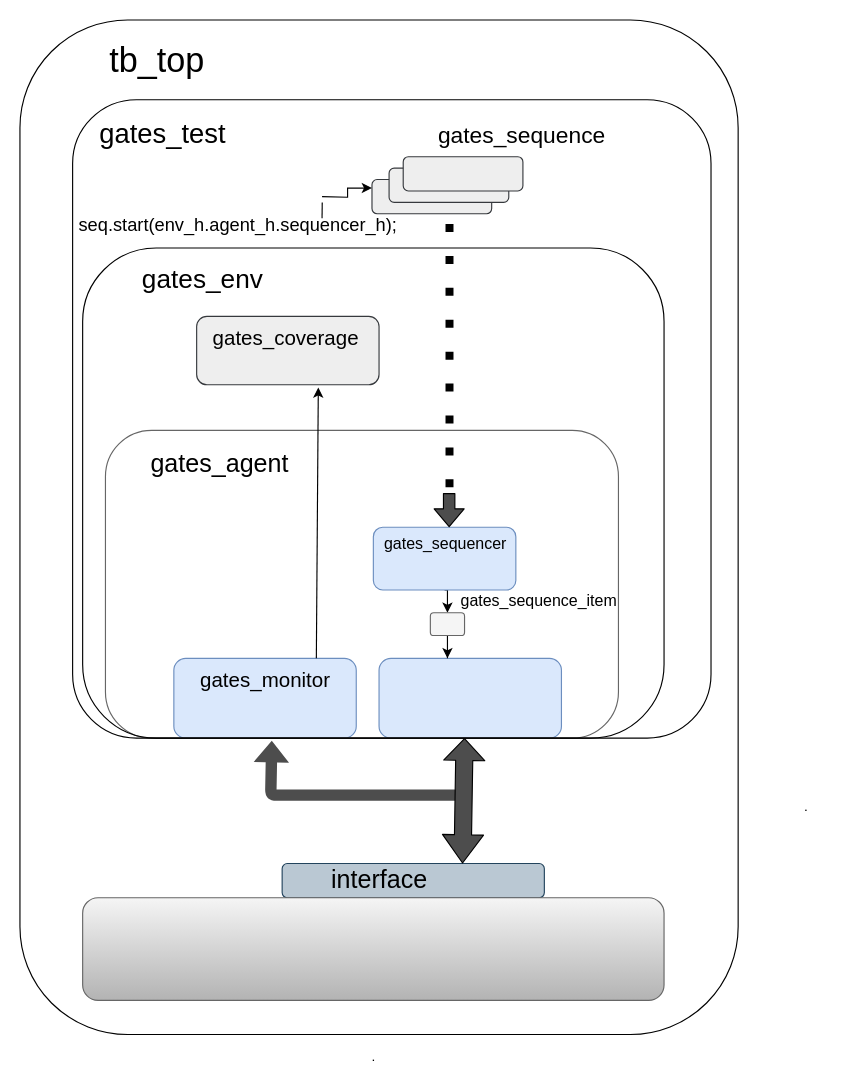
Some shapes in this 849 by 1089 pixel diagram are drawn without their labels. Here are the shapes that lost their labels. From the top down, the box of each, then its label:
(378, 657, 561, 738): gates_driver
(82, 897, 664, 1000): DUT
